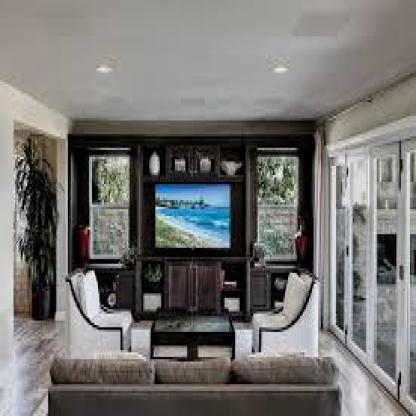TV: (154, 182, 242, 254)
